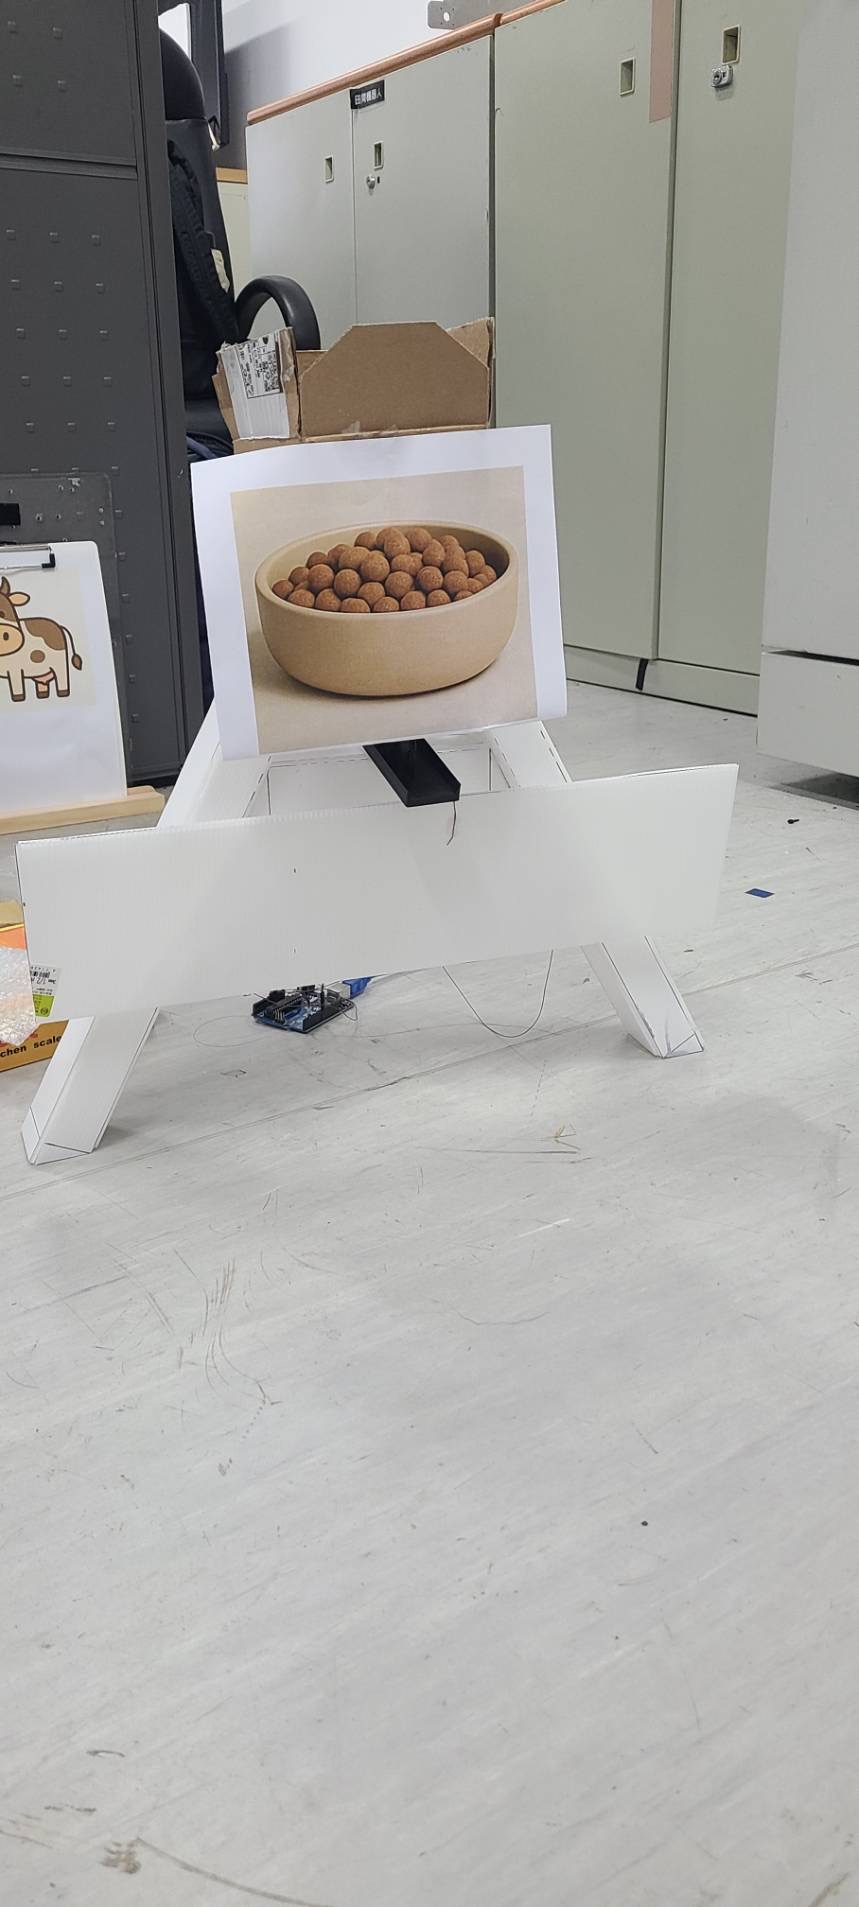machine: (246, 525, 524, 690)
